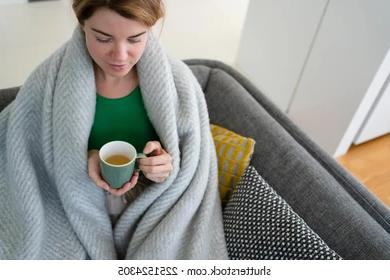blanket: (0, 20, 229, 259)
short sleeve shirt: (88, 82, 160, 177)
